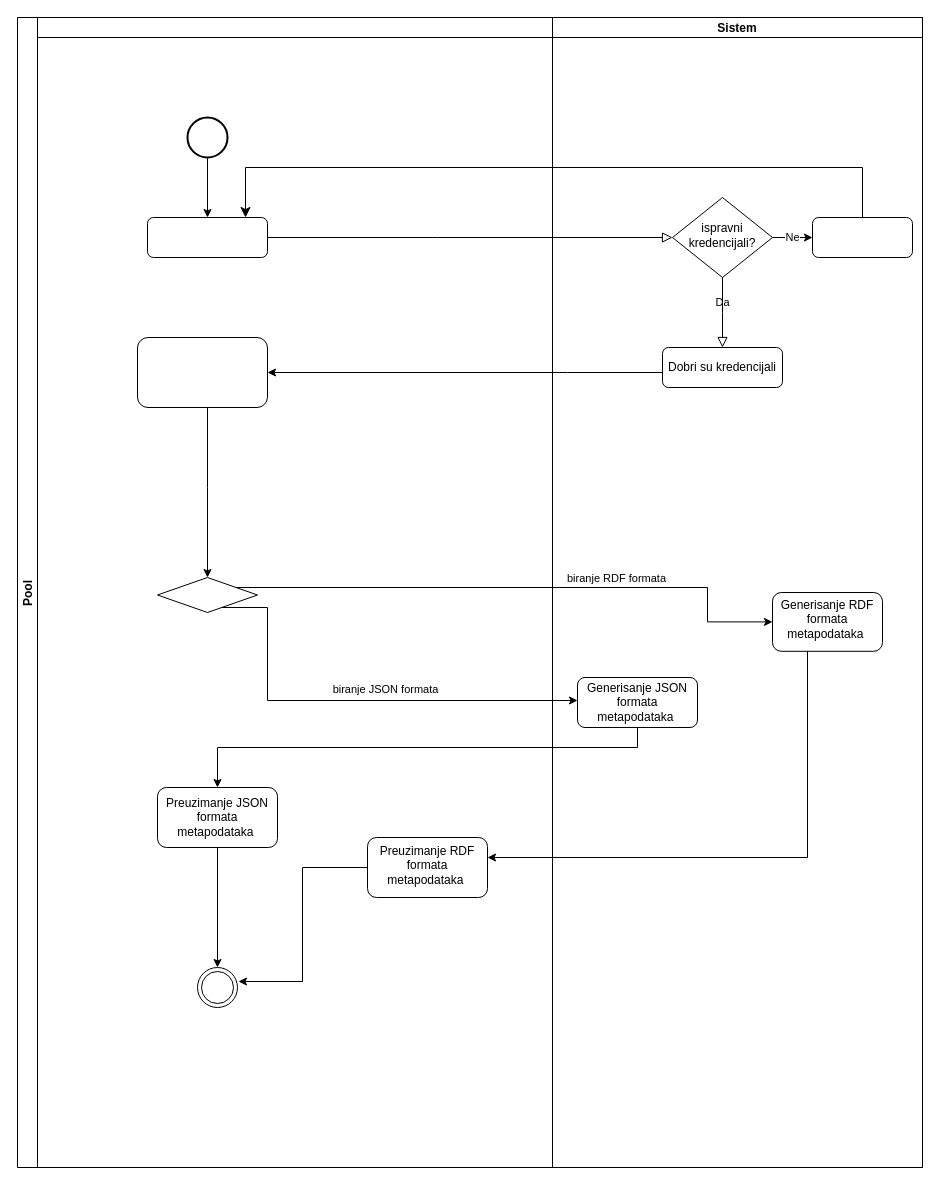
The diagram is 940 pixels wide and 1185 high, and some of its shapes have lost their labels. Here are the shapes that lost their labels. From the top down, the box of each, then its label:
(146, 216, 268, 258): Prijava na sistem
(812, 216, 912, 258): Nisu ispravni kredencijali
(136, 336, 268, 408): Biranje opcije preuzimanja metapodataka svih dokumenata
(36, 16, 552, 1168): Sluzbenik
